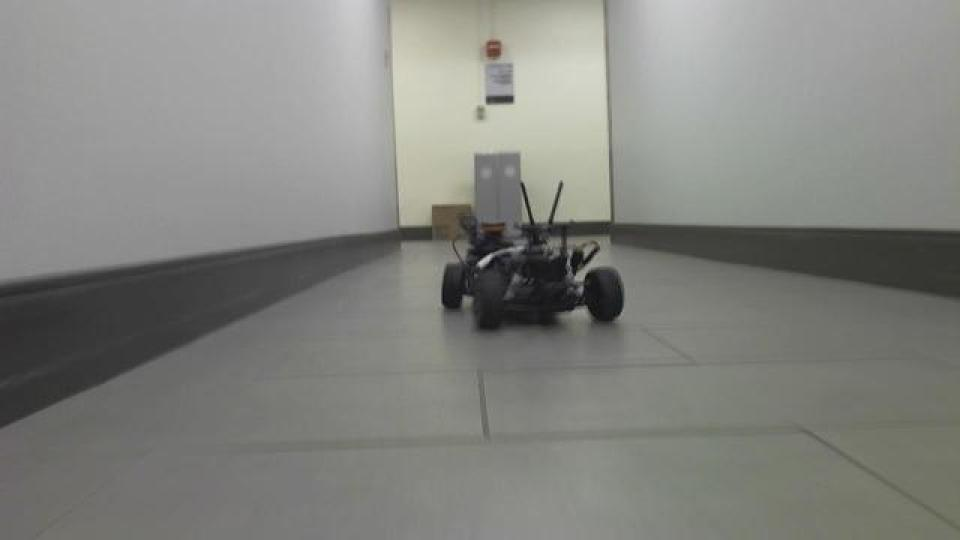car: (437, 177, 627, 333)
